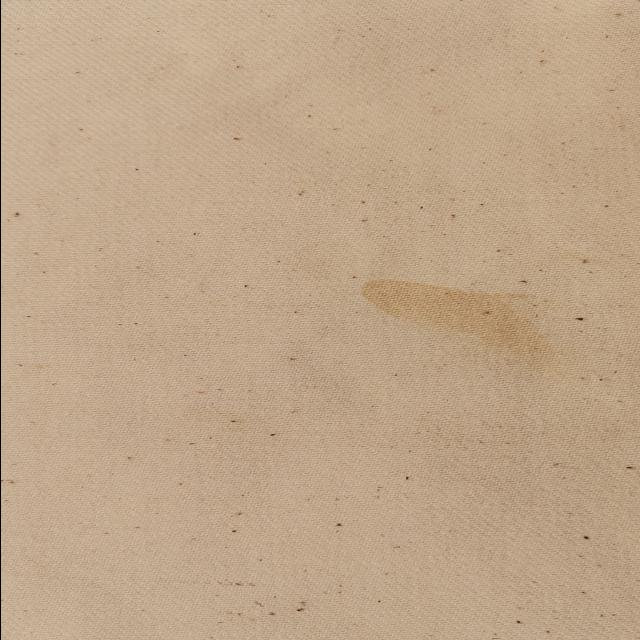taaaches: (344, 272, 566, 368)
